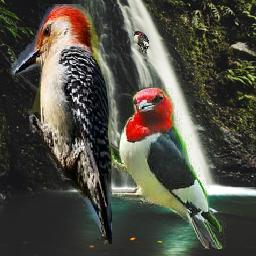Woodpecker: (10, 4, 113, 244), (100, 85, 226, 249), (129, 30, 149, 54)
